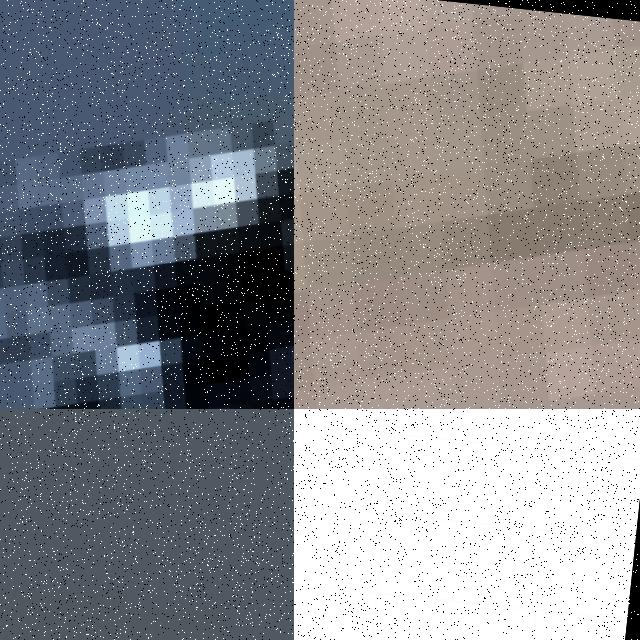drone: (294, 0, 640, 409), (0, 0, 294, 409)
